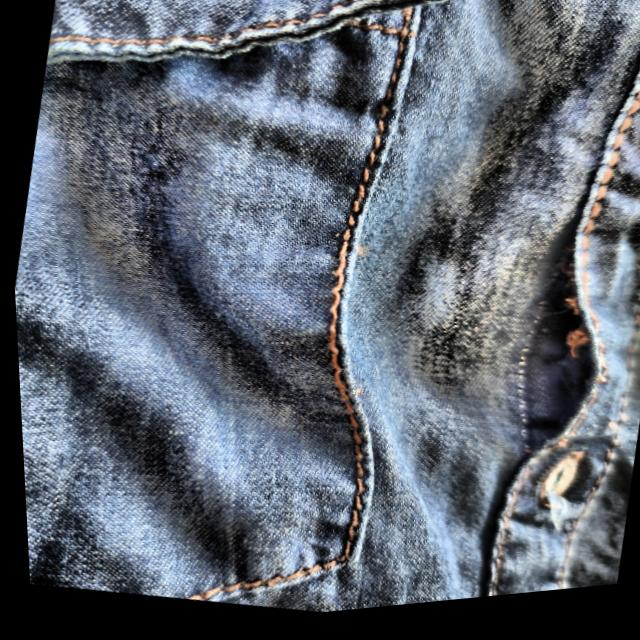seam: (471, 243, 640, 500)
